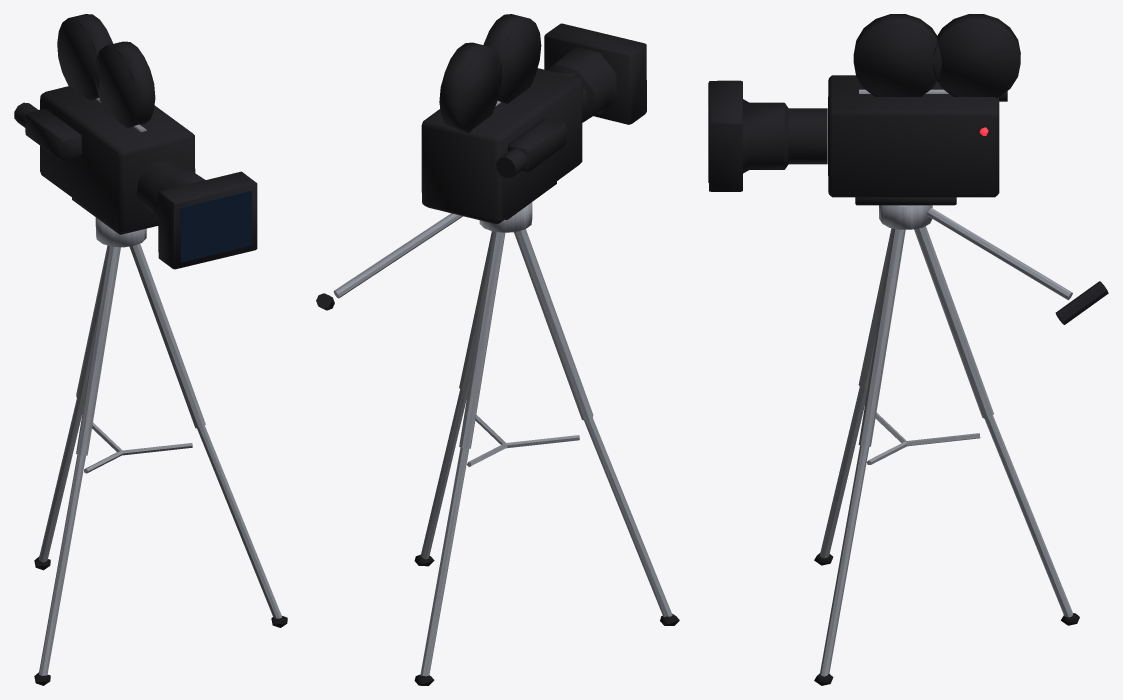
The model's file is camera-tripe-leve.glb.
The picture shows the model from 3 angles, left to right: view 1: azimuth 30°, elevation 25°; view 2: azimuth 150°, elevation 25°; view 3: azimuth 270°, elevation 25°; orthographic projection. The views are drawn at different scales.
Parts seen in each view (by area): view 1: corpo, parasol, parasol-vao, chassi, chassi.001, perna-cima.001, perna-cima.002, perna-baixo.001, visor, perna-baixo.002, objetiva, perna-baixo (+2 smaller); view 2: corpo, parasol, chassi.001, chassi, perna-cima, objetiva, perna-cima.001, perna-baixo, perna-baixo.001, visor, perna-baixo.002, manopla (+3 smaller); view 3: corpo, chassi, chassi.001, objetiva, parasol, perna-cima.002, perna-cima, perna-baixo.002, perna-baixo, perna-baixo.001, manopla, cabeca (+3 smaller).
Part boxes in pixels (left/top/right/bottom): corpo: left=40, top=86, right=195, bottom=233; parasol: left=158, top=171, right=257, bottom=269; parasol-vao: left=180, top=190, right=252, bottom=262; chassi: left=95, top=41, right=155, bottom=127; chassi.001: left=57, top=14, right=112, bottom=100; perna-cima.001: left=76, top=246, right=120, bottom=455; perna-cima.002: left=129, top=244, right=205, bottom=428; perna-baixo.001: left=39, top=454, right=85, bottom=675; visor: left=25, top=108, right=81, bottom=160; perna-baixo.002: left=197, top=426, right=281, bottom=618; objetiva: left=136, top=161, right=205, bottom=221; perna-baixo: left=39, top=398, right=84, bottom=562; corpo: left=421, top=68, right=582, bottom=223; parasol: left=544, top=23, right=646, bottom=124; chassi.001: left=439, top=42, right=502, bottom=132; chassi: left=483, top=14, right=541, bottom=103; perna-cima: left=459, top=231, right=505, bottom=448; objetiva: left=547, top=47, right=617, bottom=122; perna-cima.001: left=514, top=229, right=593, bottom=420; perna-baixo: left=420, top=447, right=469, bottom=676; perna-baixo.001: left=584, top=417, right=672, bottom=617; visor: left=507, top=118, right=566, bottom=172; perna-baixo.002: left=420, top=389, right=467, bottom=559; manopla: left=333, top=213, right=462, bottom=298; corpo: left=828, top=75, right=999, bottom=197; chassi: left=853, top=14, right=942, bottom=96; chassi.001: left=932, top=14, right=1020, bottom=98; objetiva: left=743, top=99, right=827, bottom=173; parasol: left=708, top=80, right=742, bottom=191; perna-cima.002: left=858, top=228, right=905, bottom=446; perna-cima: left=914, top=226, right=993, bottom=418; perna-baixo.002: left=820, top=445, right=869, bottom=676; perna-baixo: left=984, top=416, right=1073, bottom=617; perna-baixo.001: left=820, top=387, right=867, bottom=558; manopla: left=927, top=208, right=1072, bottom=300; cabeca: left=879, top=205, right=932, bottom=229.
Size of the model in its own units: 0.7774 by 1.71 by 1.02.
5 materials, 2 textured.
